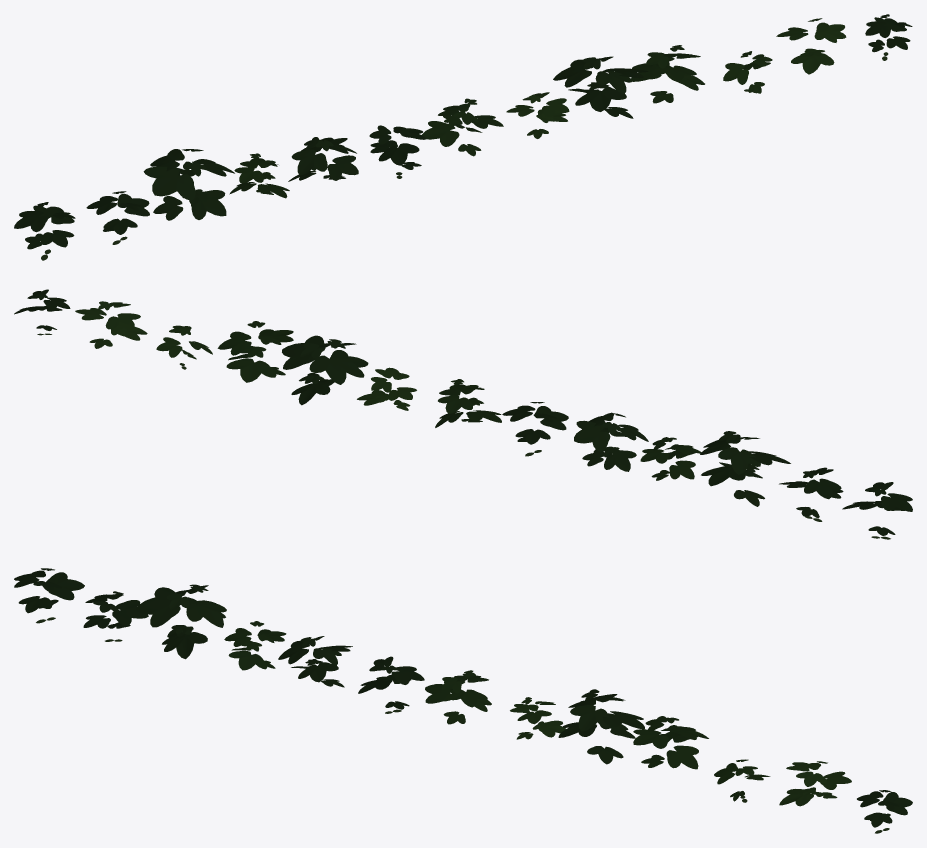
File: ROW_08_SEG5_foliage.dae
The picture shows the model from 3 angles, top to bottom: view 1: azimuth 30°, elevation 25°; view 2: azimuth 150°, elevation 25°; view 3: azimuth 330°, elevation 25°; orthographic projection.
Visible parts, largest first — view 1: ROW_08_SEG5_foliage; view 2: ROW_08_SEG5_foliage; view 3: ROW_08_SEG5_foliage.
Boxes of the visible parts, box(x1,y1,x2,y2) form: ROW_08_SEG5_foliage: box(14, 14, 912, 260); ROW_08_SEG5_foliage: box(14, 289, 912, 539); ROW_08_SEG5_foliage: box(14, 568, 912, 833).
Size of the model in its own units: 3.88 by 0.3586 by 0.3051.
